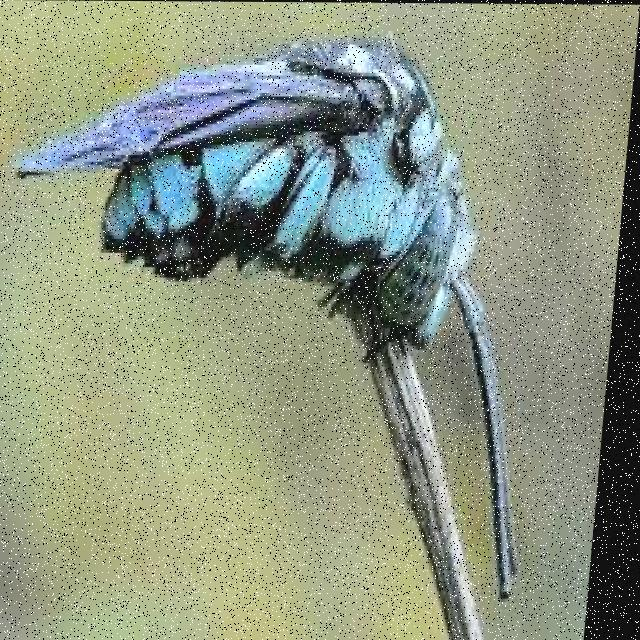Thyreus: (0, 22, 599, 583)
